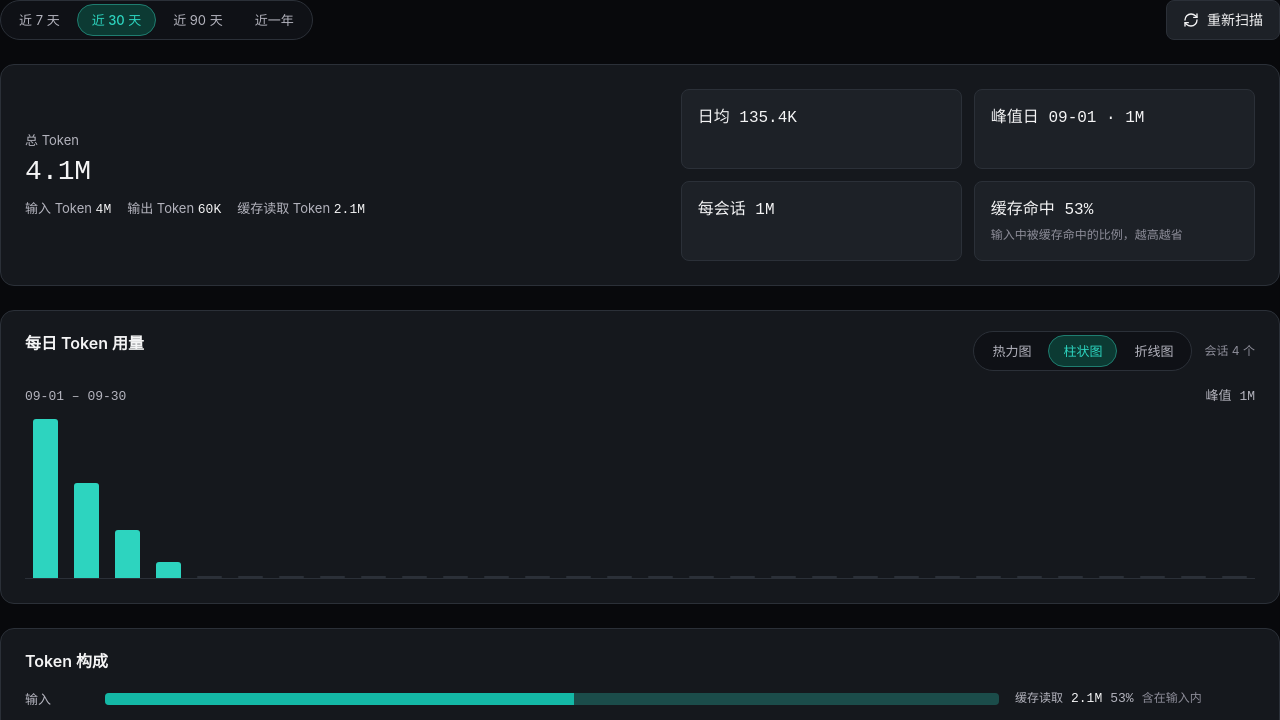
Test: 热力图：一天一格、一列一周，分档随用量变化，另附少 / 多图例
Expected: the picture named "每日 Token 用量柱状图" is shown, [25,419,1255,579]
What coordinates should you click on to do the following:
click the tab "热力图"
I would click on:
 (1012, 351)
Its box is [977,335,1046,367].
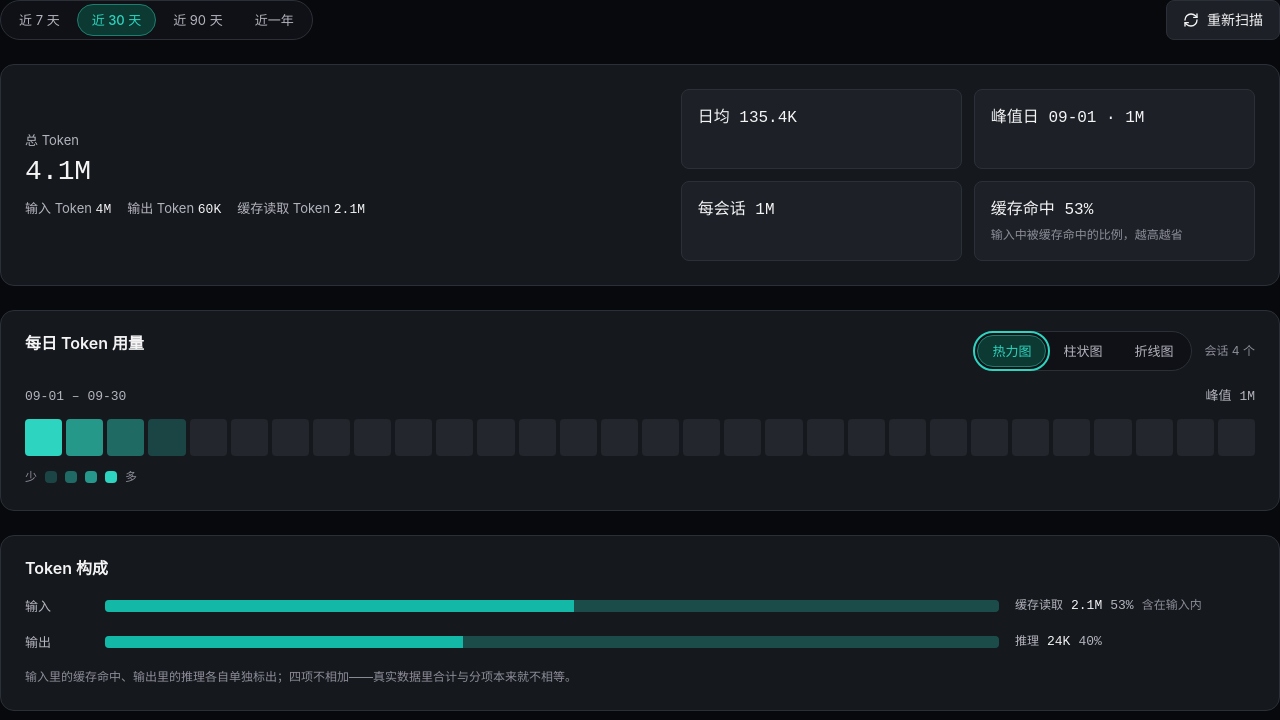
Expected: the text "少" is shown, [25,468,37,486]
Expected: the text "多" is shown, [125,468,137,486]
